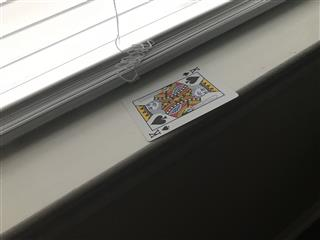KingOfSpades: (120, 63, 240, 141)
